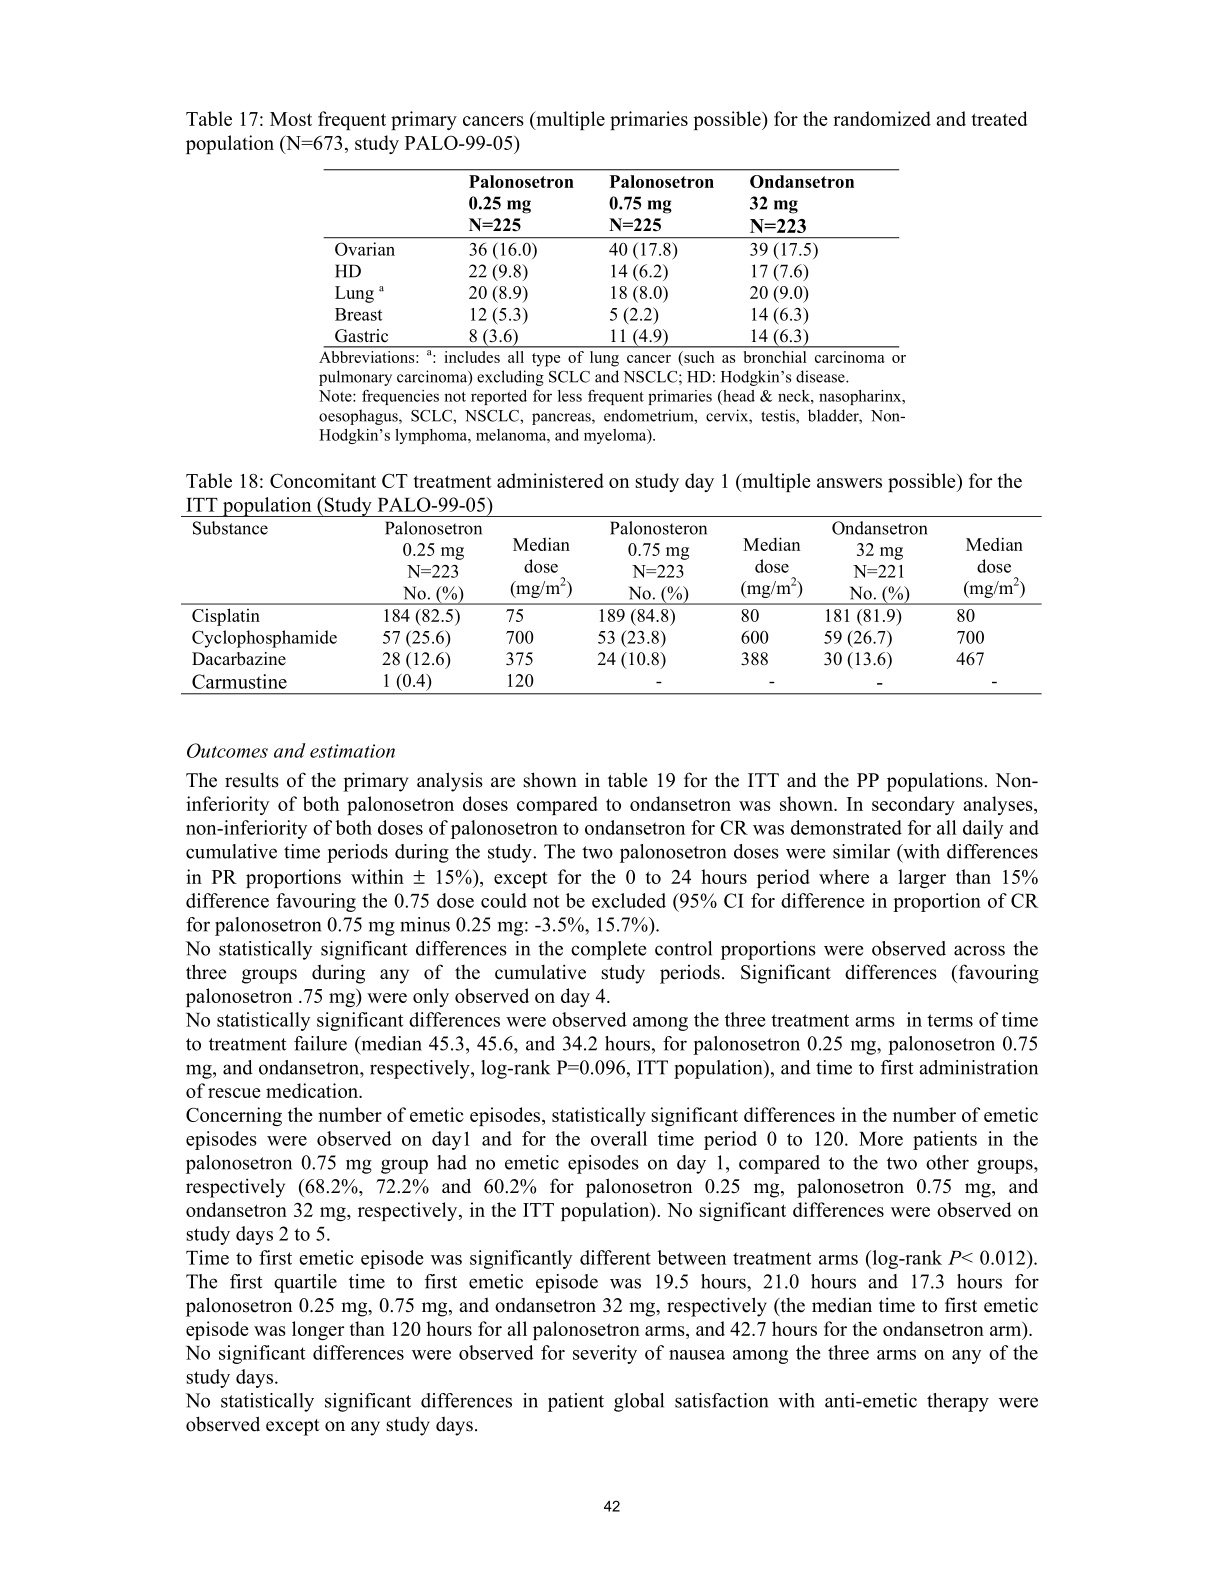partial_lined: (180, 516, 1043, 696)
partial_lined_merged_cells: (318, 167, 906, 445)
